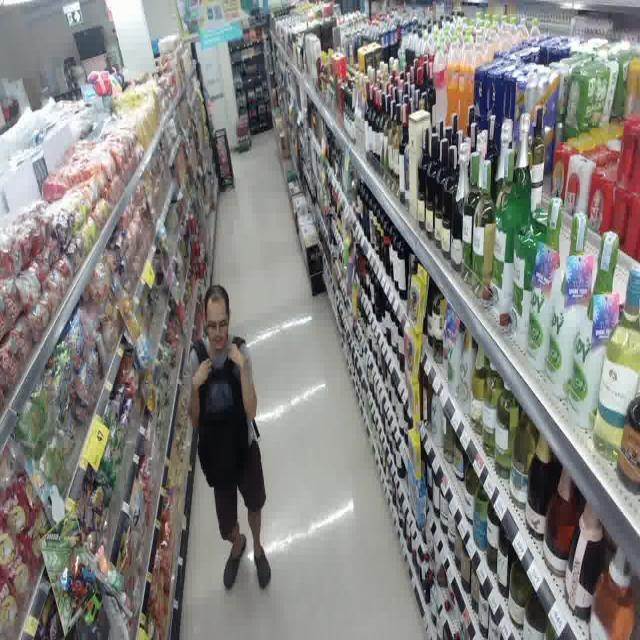Normal: (170, 250, 289, 602)
